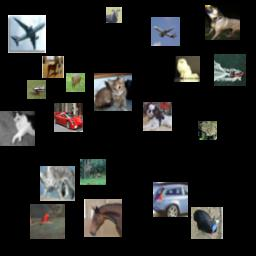airplane: (8, 15, 46, 53), (151, 17, 180, 46), (27, 80, 46, 99)
automobile: (153, 182, 188, 217), (54, 103, 83, 132)
bird: (30, 204, 65, 239), (191, 207, 223, 239)
cat: (94, 73, 132, 111), (0, 111, 35, 146), (40, 166, 75, 201), (174, 56, 200, 82)
deer: (80, 159, 106, 185), (66, 73, 85, 92), (106, 7, 122, 23)
dog: (205, 5, 240, 40), (143, 102, 172, 131)
frog: (198, 121, 217, 140)
ship: (214, 54, 246, 86)
